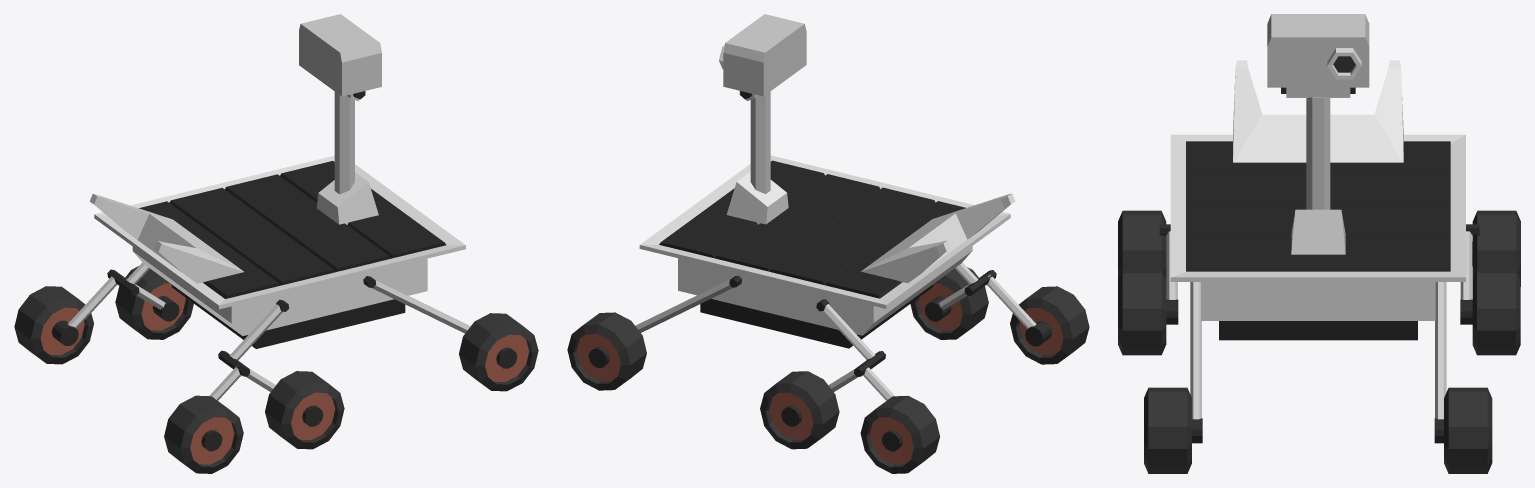
Rendered from LowPolyRover.fbx.
3 renders of one model, left to right at view 1: azimuth 30°, elevation 25°; view 2: azimuth 150°, elevation 25°; view 3: azimuth 270°, elevation 25°, orthographic. The views are drawn at different scales.
Parts seen in each view (by area): view 1: Body, Head, Cube, Wheel.001, Wheel, Wheel.002, Wheel.003, Wheel.004, Neck, Cube.001, Leg.001, Leg.002 (+1 smaller); view 2: Body, Head, Cube, Wheel.005, Wheel.004, Wheel.003, Wheel.002, Wheel.001, Neck, Cube.001, Leg, Leg.009 (+1 smaller); view 3: Body, Cube, Head, Wheel.004, Wheel.001, Wheel.005, Wheel, Wheel.003, Wheel.002, Neck, Cube.001, Leg (+5 smaller).
Boxes of the visible parts, box(x1,y1,x2,y2) form: Body: box(94, 155, 465, 348); Head: box(299, 14, 381, 96); Cube: box(89, 193, 243, 283); Wheel.001: box(265, 371, 344, 449); Wheel: box(459, 313, 538, 391); Wheel.002: box(164, 395, 243, 473); Wheel.003: box(14, 286, 93, 364); Wheel.004: box(115, 266, 193, 339); Neck: box(334, 91, 354, 194); Cube.001: box(316, 172, 378, 224); Leg.001: box(372, 279, 470, 333); Leg.002: box(229, 304, 282, 360); Body: box(639, 155, 1010, 348); Head: box(723, 14, 806, 96); Cube: box(861, 193, 1014, 283); Wheel.005: box(567, 312, 646, 390); Wheel.004: box(760, 371, 839, 449); Wheel.003: box(860, 395, 939, 473); Wheel.002: box(1010, 286, 1089, 364); Wheel.001: box(910, 267, 988, 339); Neck: box(750, 91, 770, 194); Cube.001: box(726, 172, 788, 224); Leg: box(635, 279, 732, 332); Leg.009: box(822, 304, 875, 359); Body: box(1170, 134, 1465, 340); Cube: box(1233, 60, 1403, 162); Head: box(1267, 14, 1369, 87); Wheel.004: box(1460, 269, 1520, 355); Wheel.001: box(1118, 269, 1178, 355); Wheel.005: box(1434, 387, 1492, 473); Wheel: box(1144, 387, 1202, 473); Wheel.003: box(1472, 210, 1520, 286); Wheel.002: box(1118, 210, 1166, 279); Neck: box(1306, 97, 1330, 209); Cube.001: box(1291, 209, 1345, 254); Leg: box(1435, 282, 1446, 419).
Size of the model in its own units: 765 by 651 by 610.
